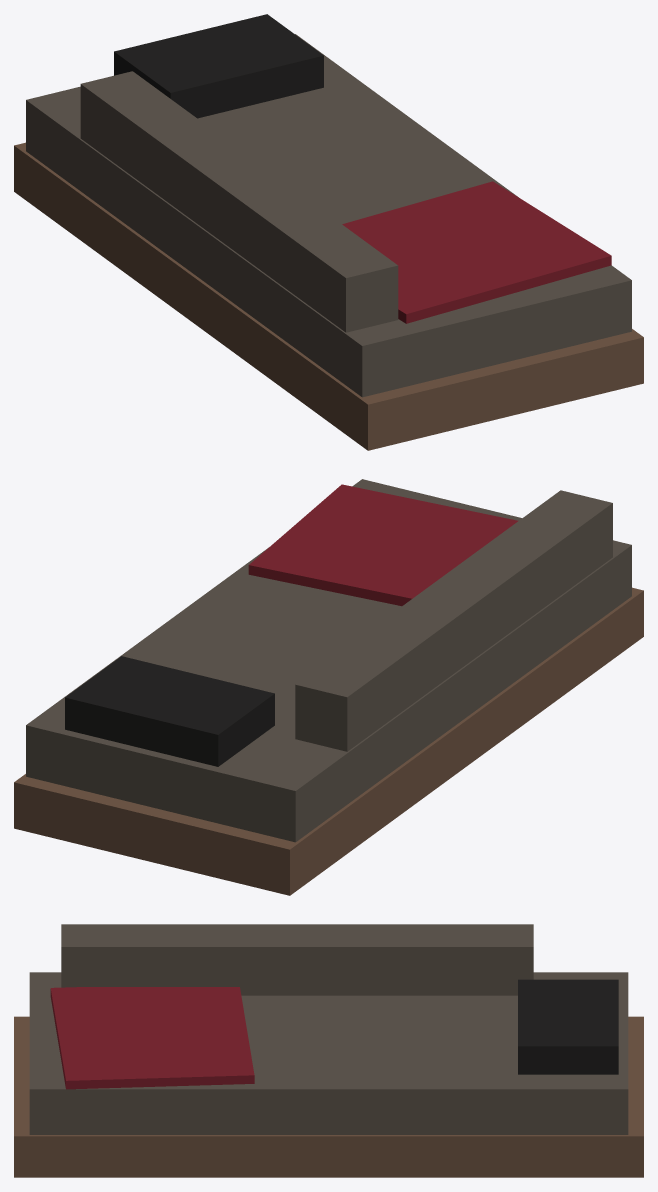
The model's file is daybed.glb.
3 views of the same model, one above another, from view 1: azimuth 30°, elevation 25°; view 2: azimuth 150°, elevation 25°; view 3: azimuth 270°, elevation 25° (orthographic). The views are drawn at different scales.
Parts seen in each view (by area): view 1: fabric, wood, accent-crimson, rubber; view 2: fabric, wood, accent-crimson, rubber; view 3: fabric, wood, accent-crimson, rubber.
Boxes of the visible parts, bbox=[...] form: fabric: bbox=[26, 34, 631, 397]; wood: bbox=[14, 142, 643, 450]; accent-crimson: bbox=[342, 181, 611, 323]; rubber: bbox=[114, 14, 323, 118]; fabric: bbox=[26, 479, 631, 842]; wood: bbox=[14, 587, 643, 895]; accent-crimson: bbox=[248, 484, 518, 606]; rubber: bbox=[65, 656, 274, 766]; fabric: bbox=[29, 924, 628, 1134]; wood: bbox=[14, 1016, 643, 1177]; accent-crimson: bbox=[50, 987, 254, 1089]; rubber: bbox=[518, 979, 618, 1074].
Bounding box in the file's own units: 0.9 × 0.474 × 2.
